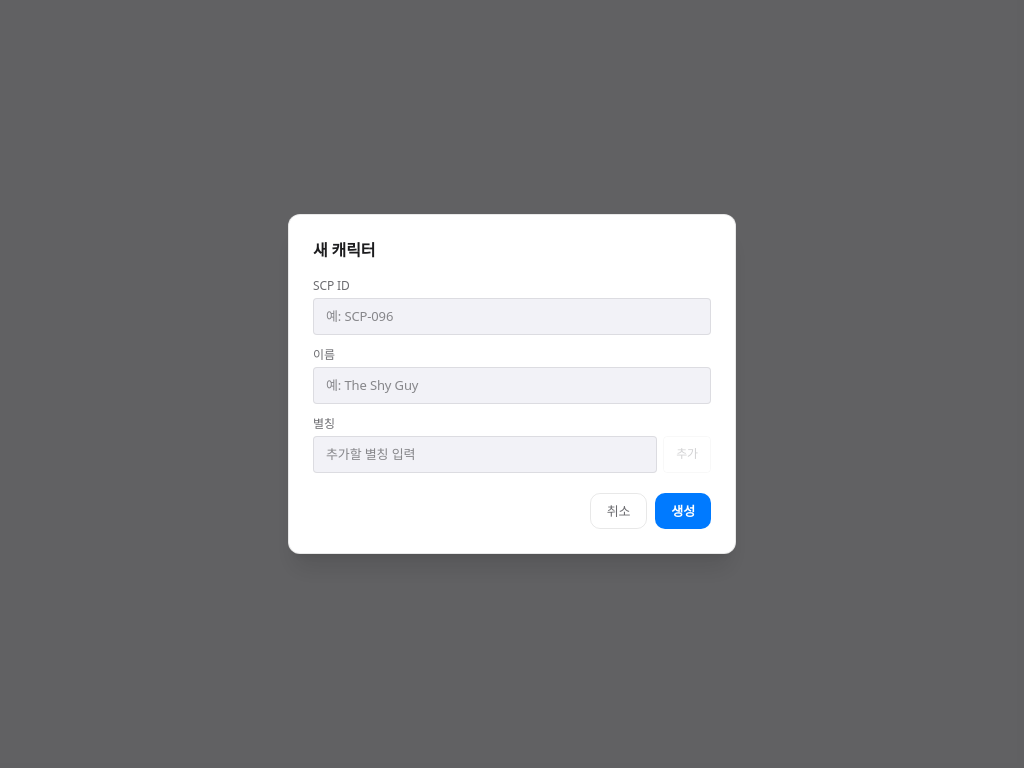
CharacterFormDialog › validates empty name
Type "SCP-999" into the field labelled "SCP ID" at (512,316), box [313, 298, 711, 335]
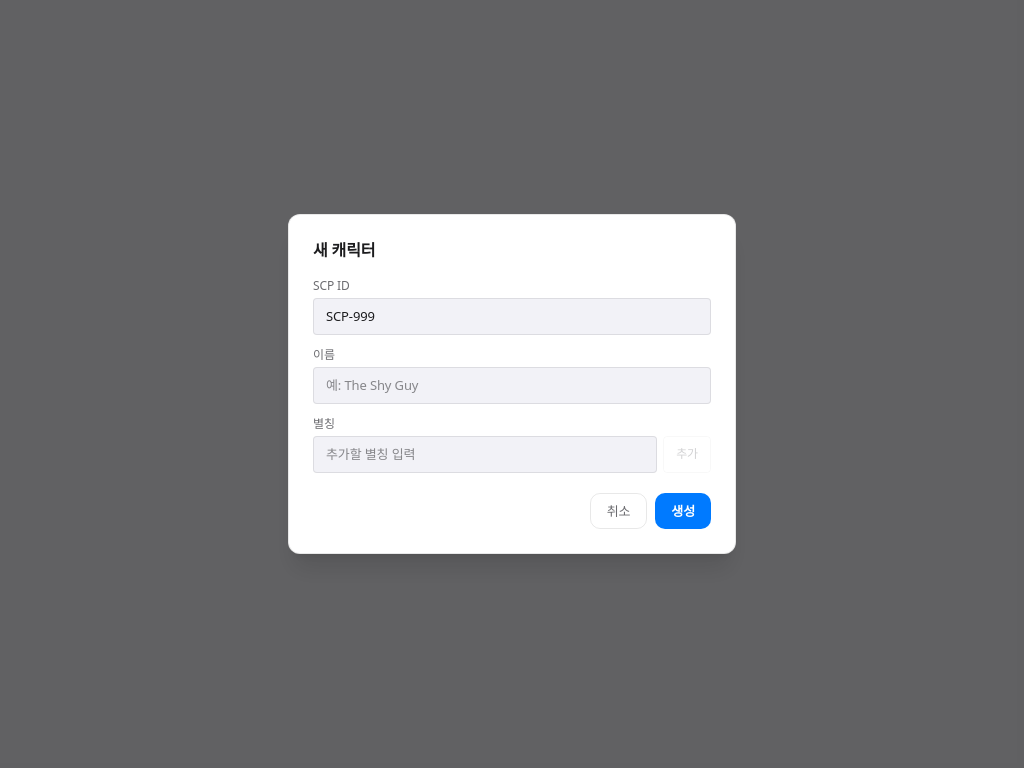
Click the button "생성" at (683,511), box [655, 493, 711, 529]
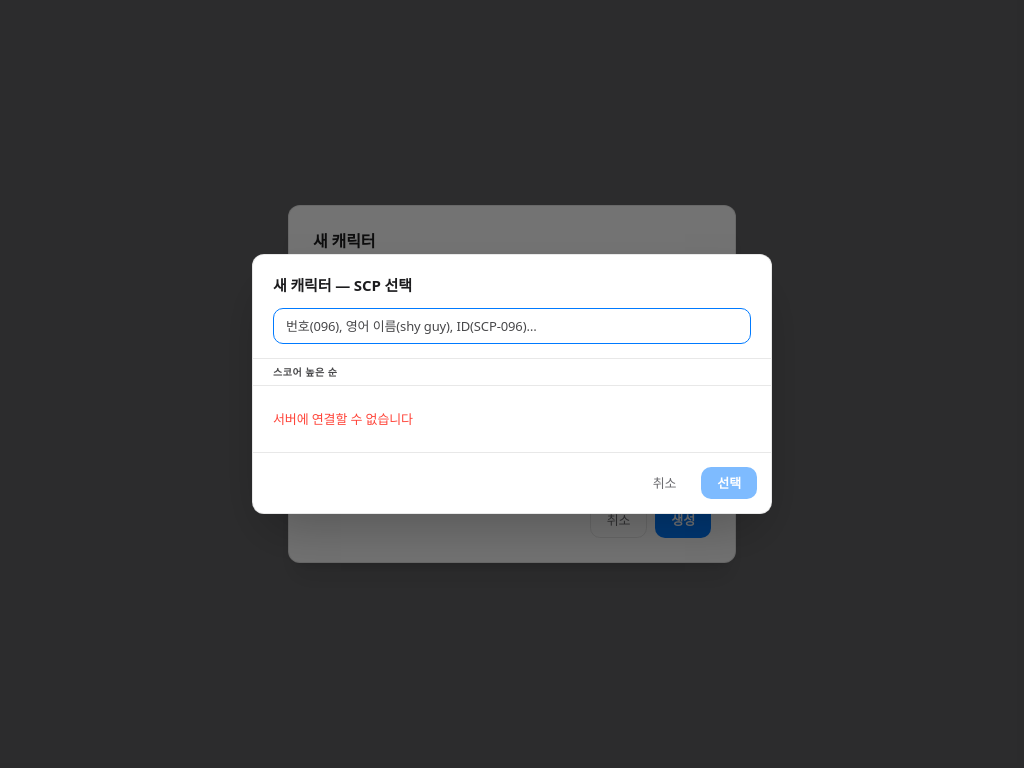
Expected: the text "이름은 필수입니다" is shown, [313, 398, 396, 413]
